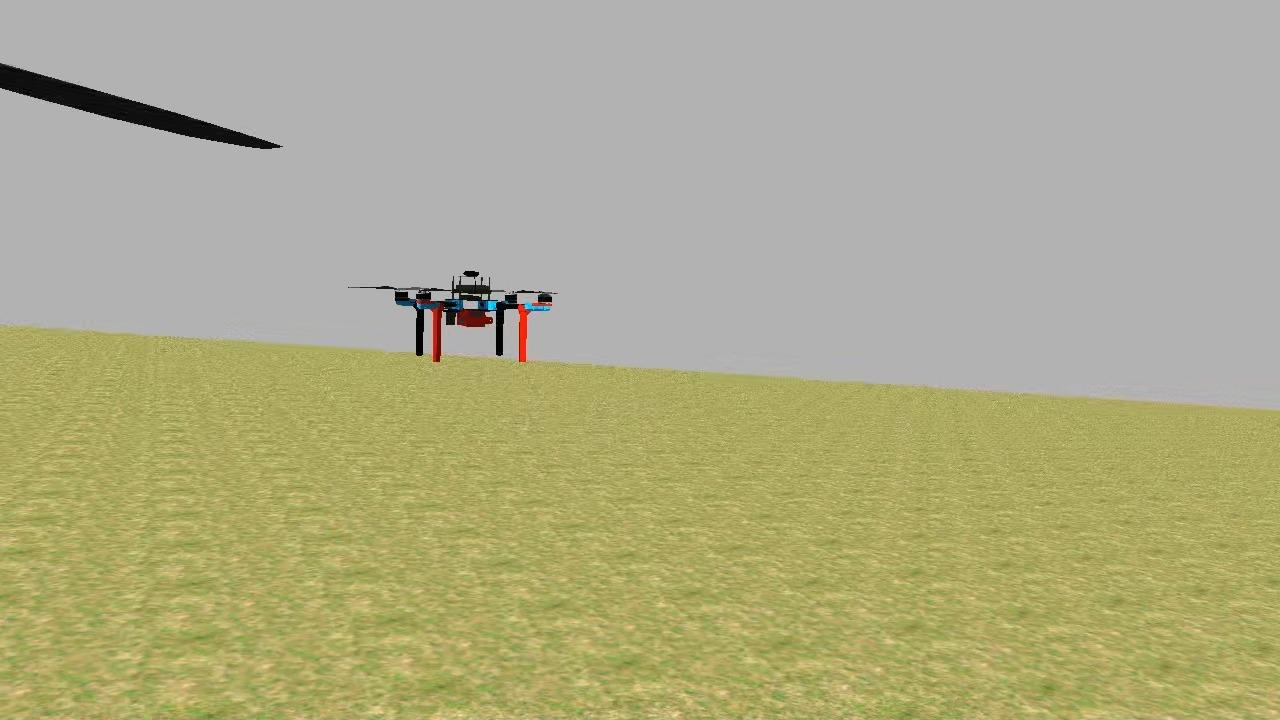UAV: (388, 264, 560, 364)
